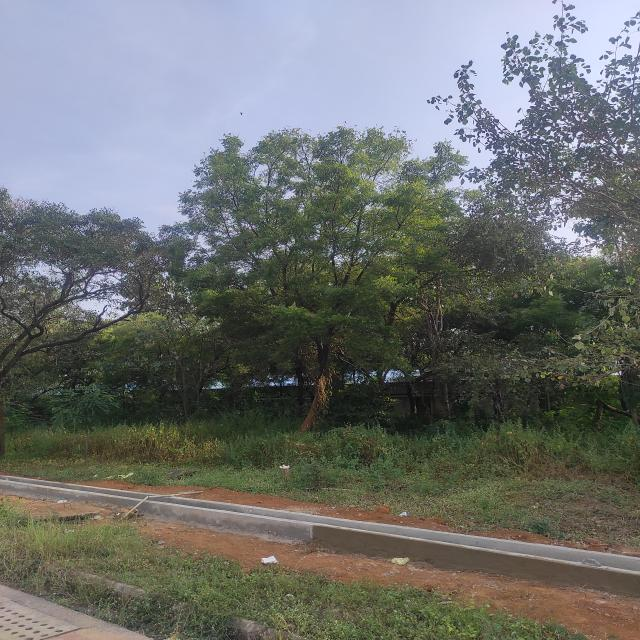Devakanchan tree: (457, 22, 640, 377)
Neem Tree: (171, 129, 446, 346)
